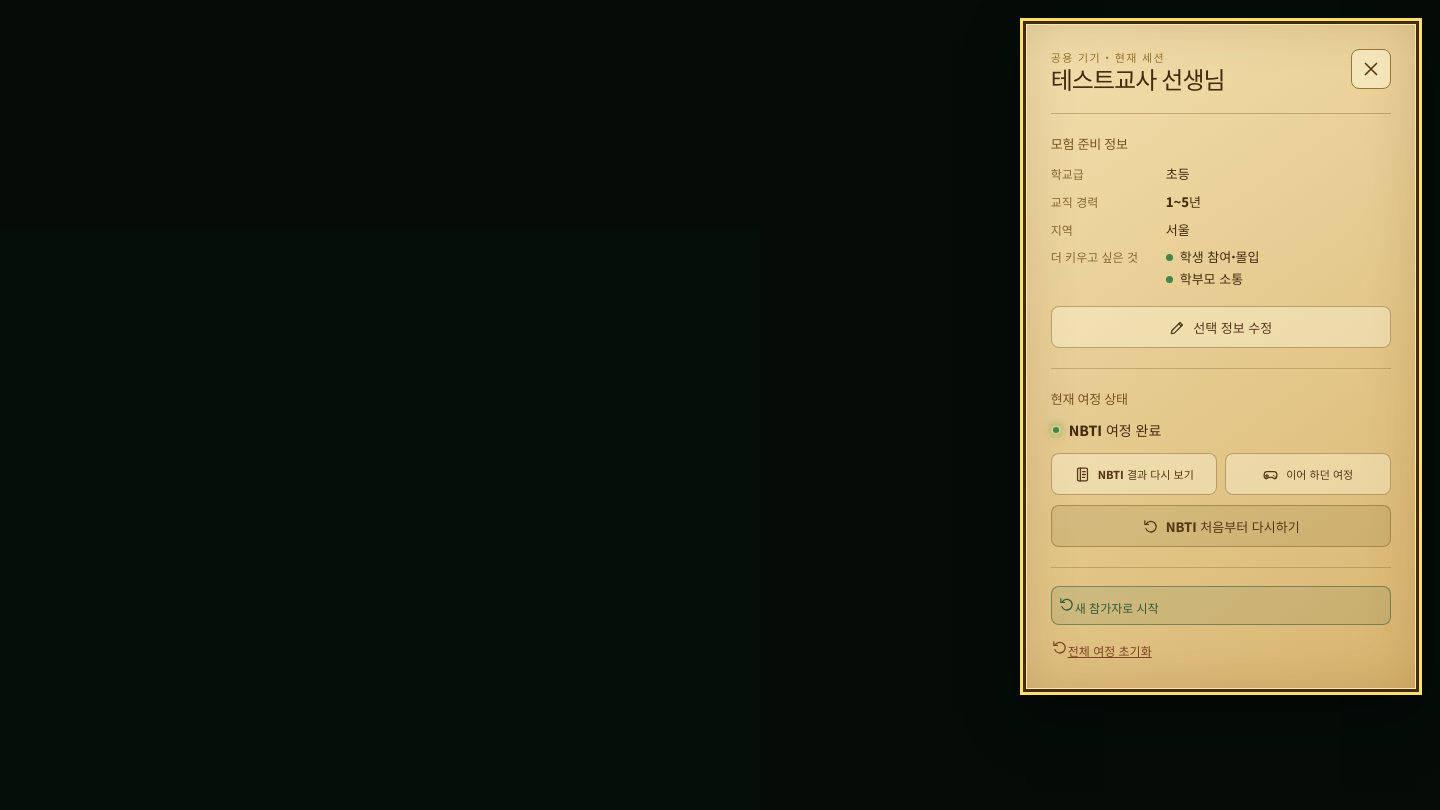
TeacherPanel › surfaces a retryable error when the action reports failure
Click the button "전체 여정 초기화": (1110, 651) [1051,634,1391,664]
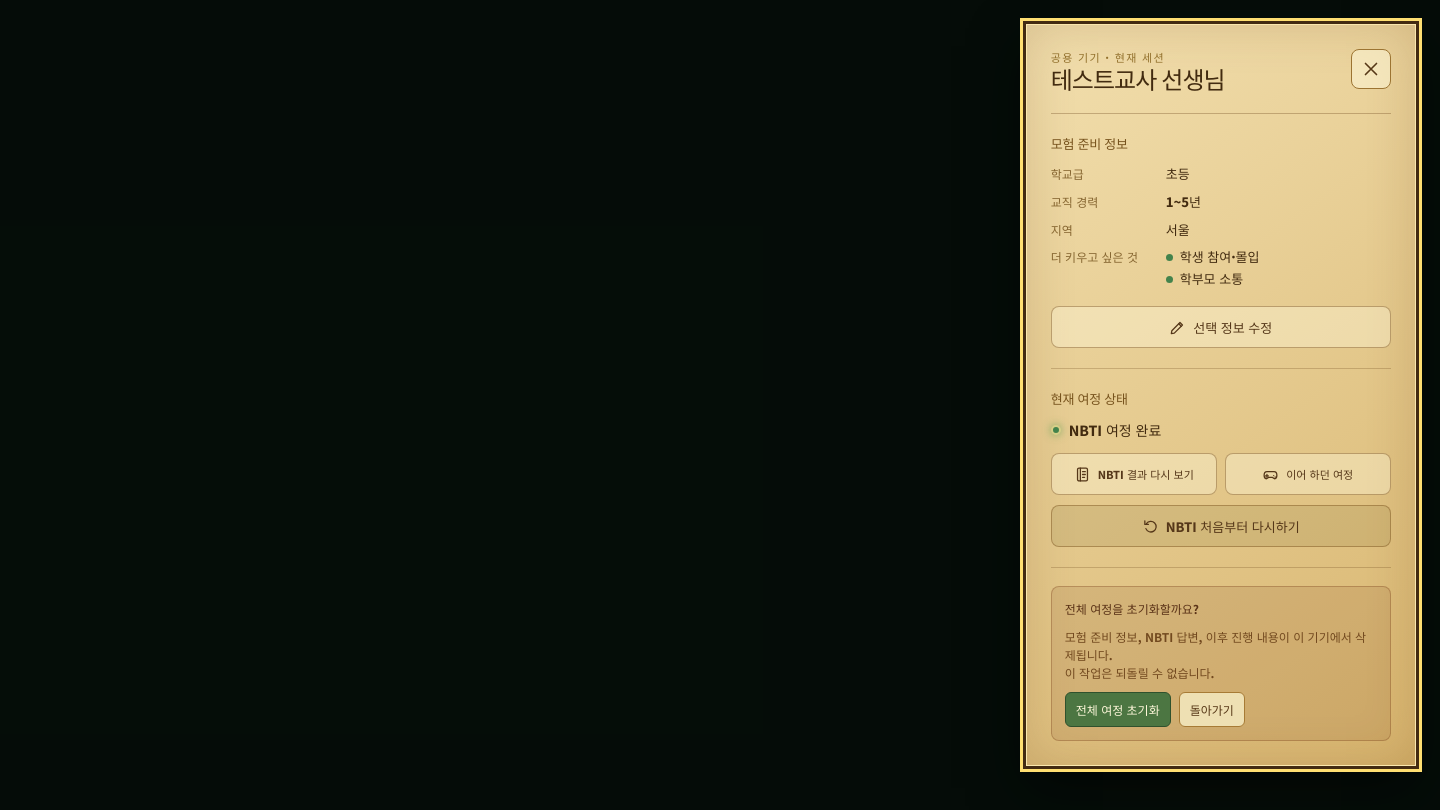
Click the button "전체 여정 초기화": (1118, 710) [1065,692,1171,727]
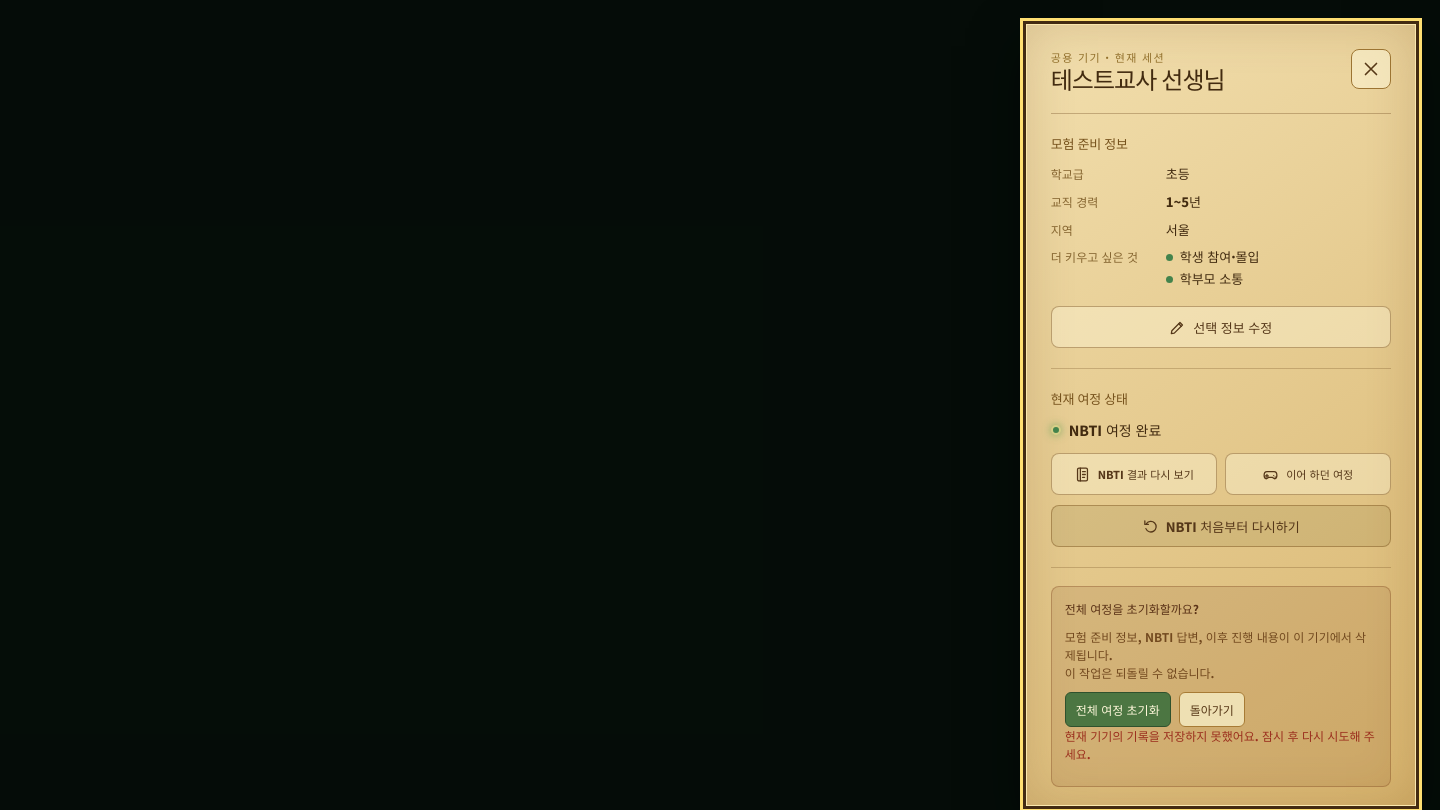
Now the message shows "기록을 저장하지 못했어요", box [1065,727,1375,762]
